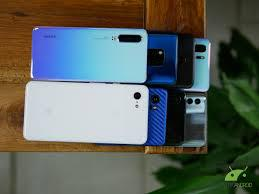Smartphone: (20, 89, 148, 142), (30, 28, 148, 85), (147, 35, 205, 91), (151, 90, 202, 147)
